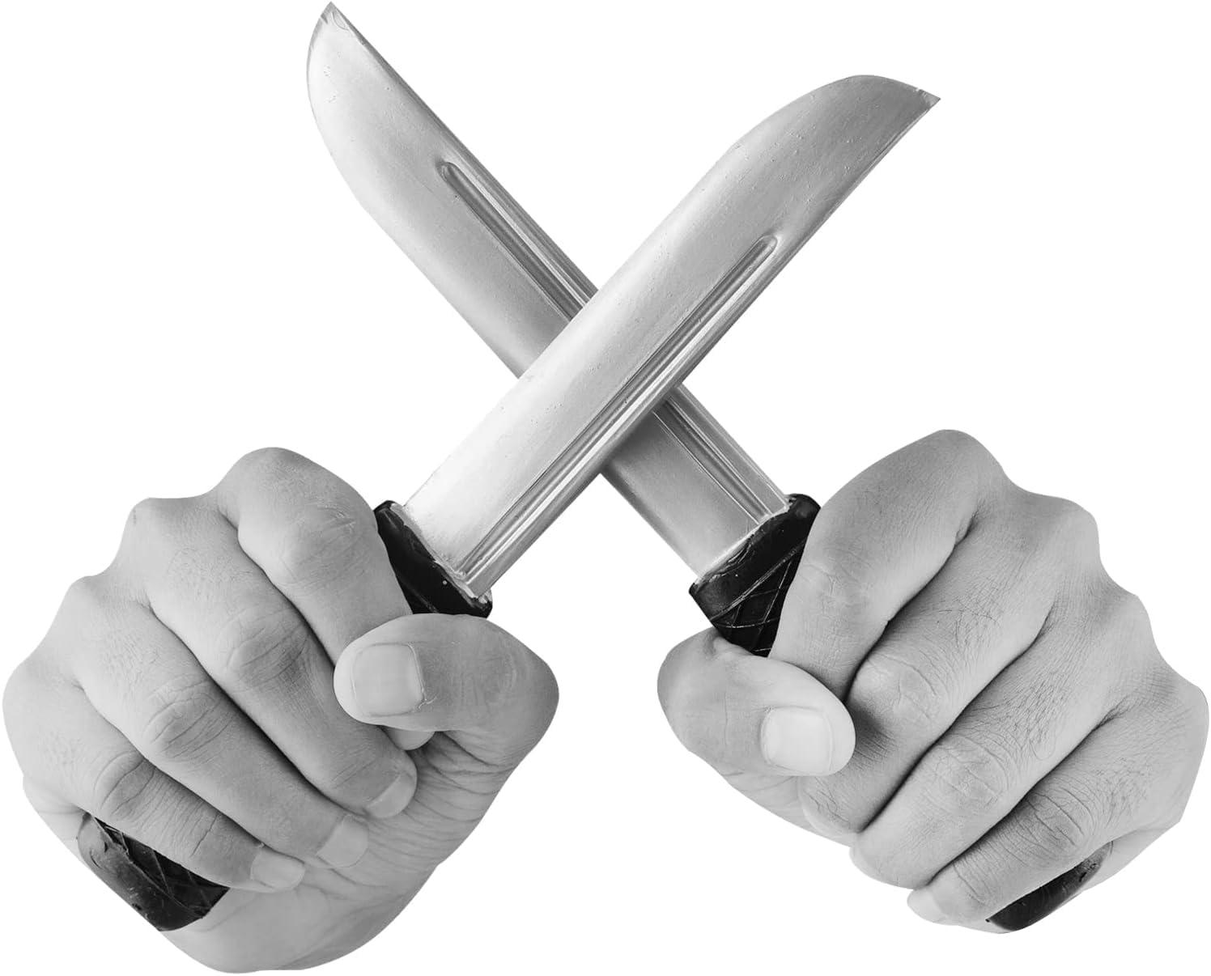Knife: (3, 444, 557, 976), (654, 428, 1211, 941), (306, 3, 797, 584), (386, 74, 943, 566)
